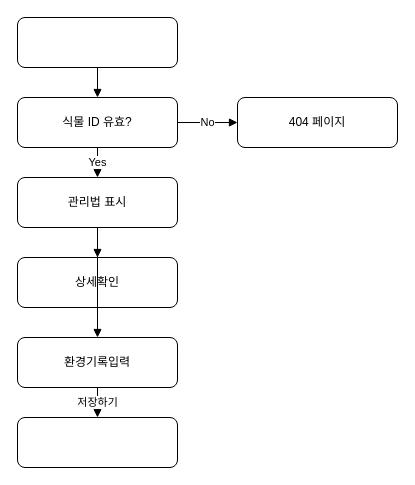
Image size: 415x485. Some labels were removed from this diagram. The shapes that lost their labels are listed below. From the top down, each one's box as (x1, y1, x2, y2) in pixels, then its label:
(16, 16, 178, 68): 페이지 진입
(16, 416, 178, 468): 저장
